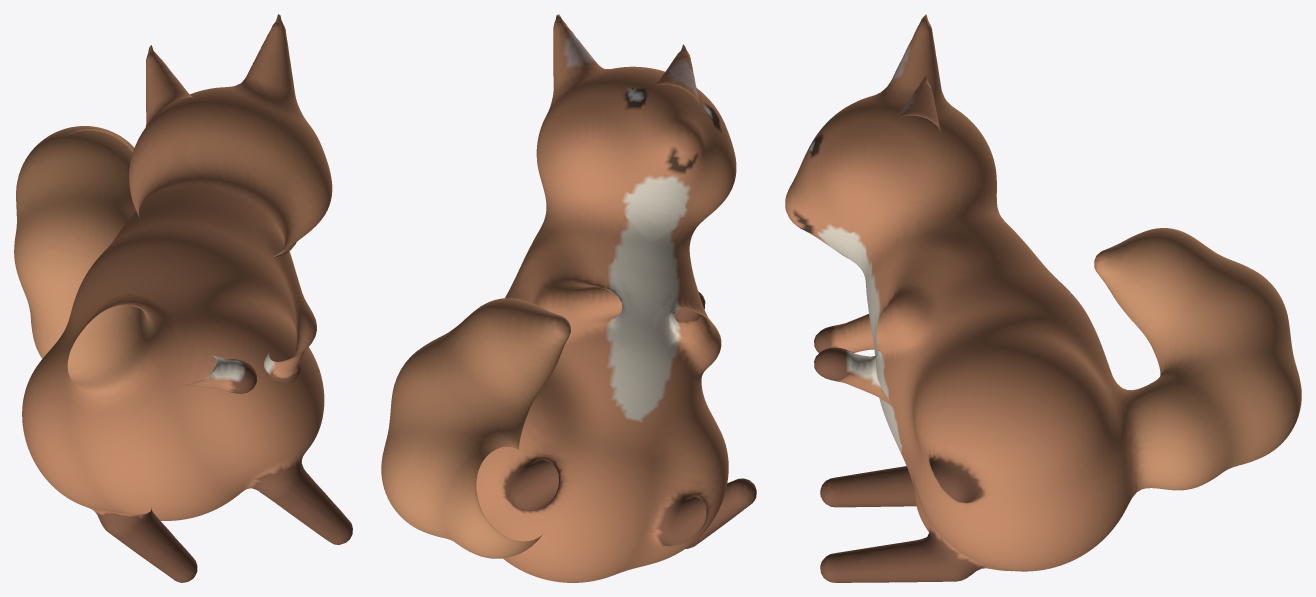
File: squirrel.glb
3 renders of one model, left to right at view 1: azimuth 30°, elevation 25°; view 2: azimuth 150°, elevation 25°; view 3: azimuth 270°, elevation 25°, orthographic.
Visible parts, largest first — view 1: geometry_0; view 2: geometry_0; view 3: geometry_0.
Part boxes in pixels (box(x1,y1,x2,y2)): geometry_0: box(14, 14, 352, 582); geometry_0: box(381, 14, 756, 582); geometry_0: box(785, 14, 1301, 582).
Size of the model in its own units: 1.24 by 2.29 by 2.07.
